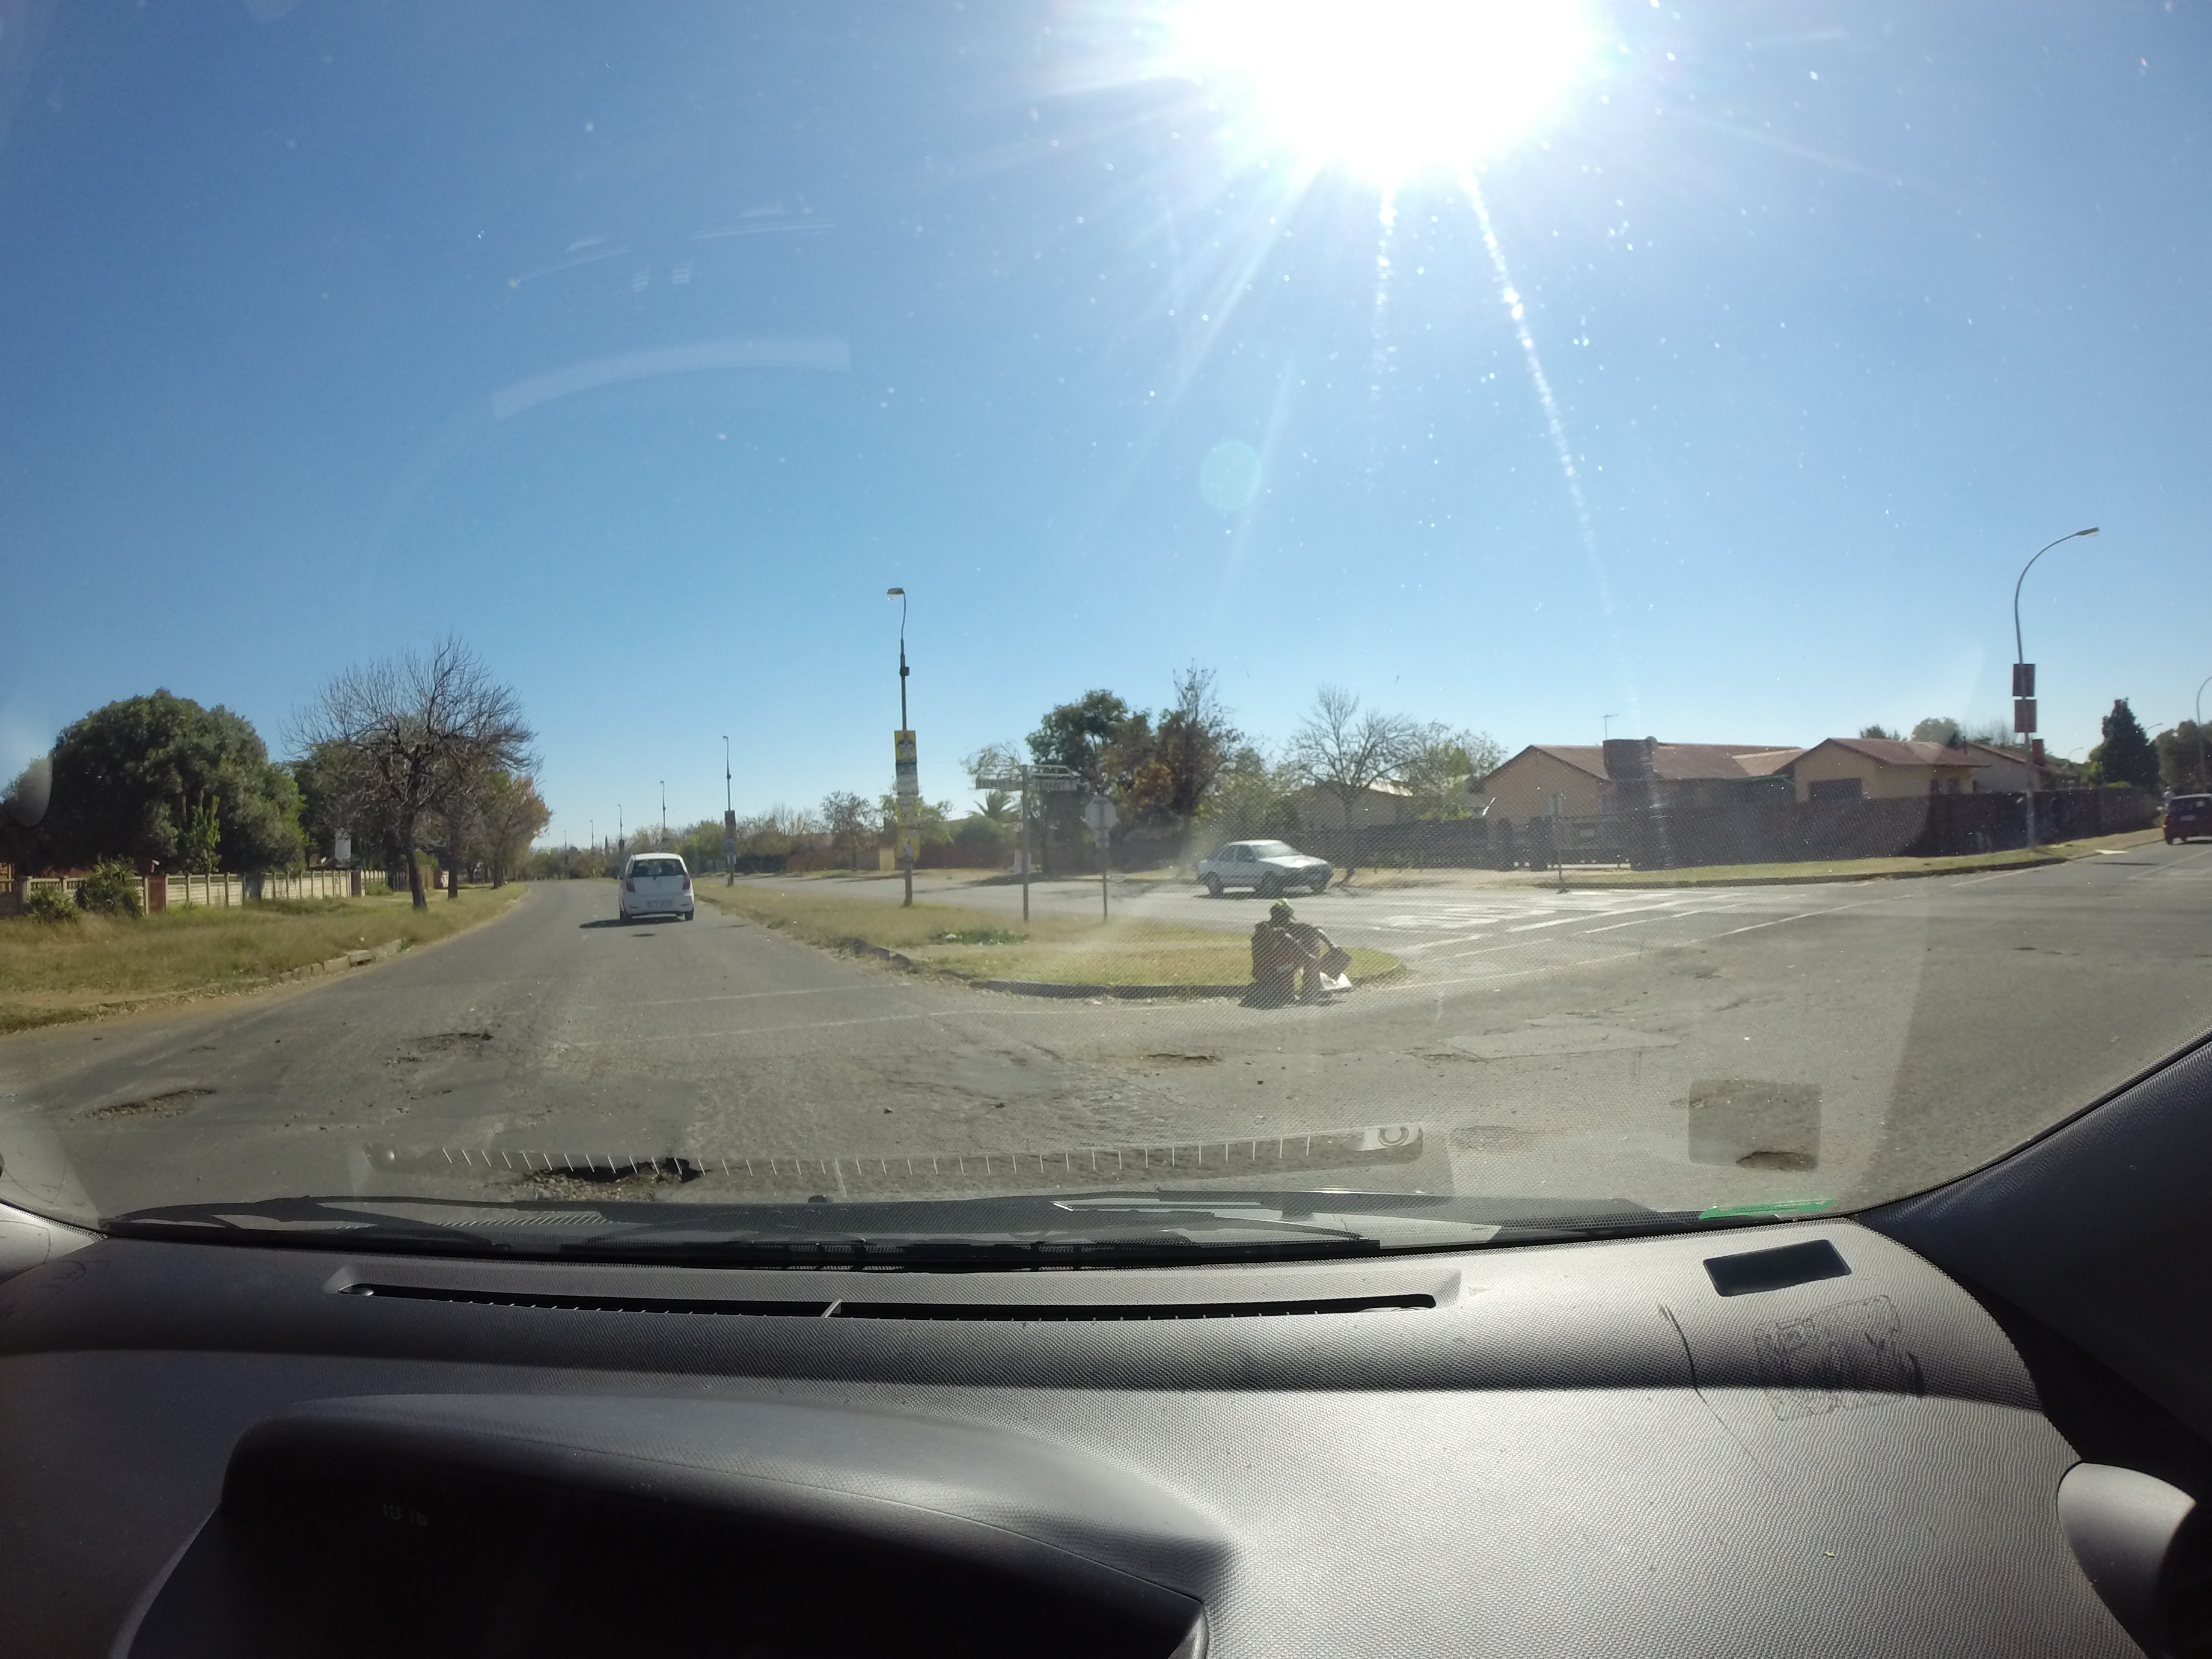pothole: (486, 1127, 759, 1209), (361, 995, 547, 1105), (63, 1065, 268, 1164), (1669, 1117, 1857, 1206)
